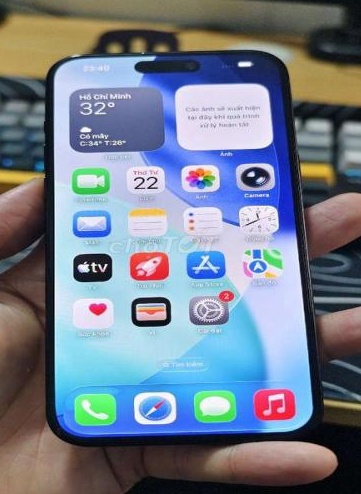scratch: (135, 48, 150, 58), (65, 52, 85, 59)
